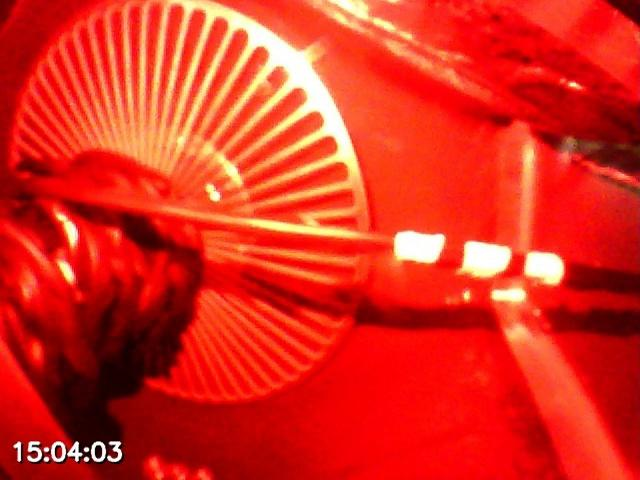white-dots: (393, 229, 565, 285)
